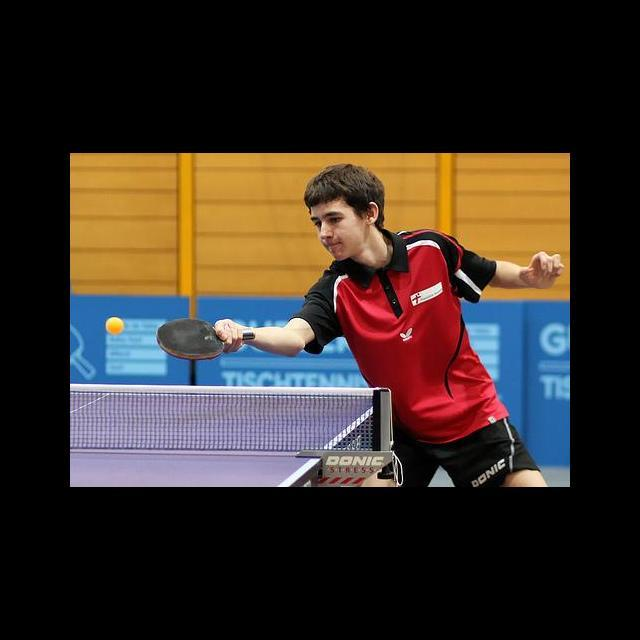ping-pong-ball: (105, 316, 125, 334)
